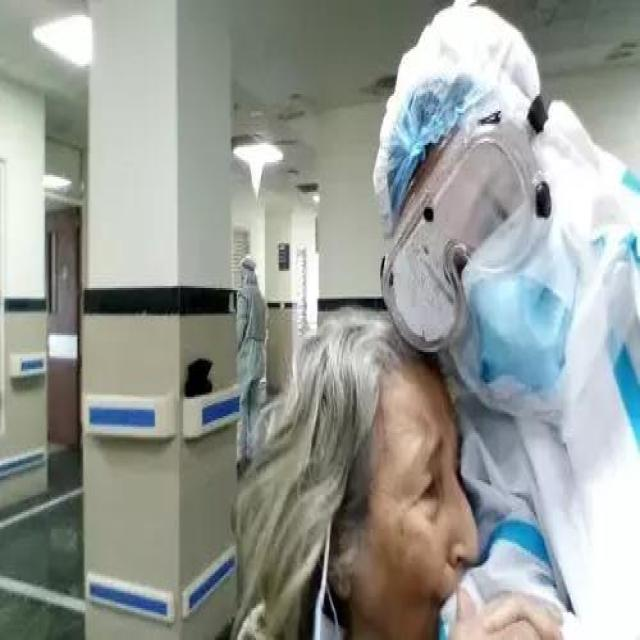Coverall: (574, 614, 640, 639)
